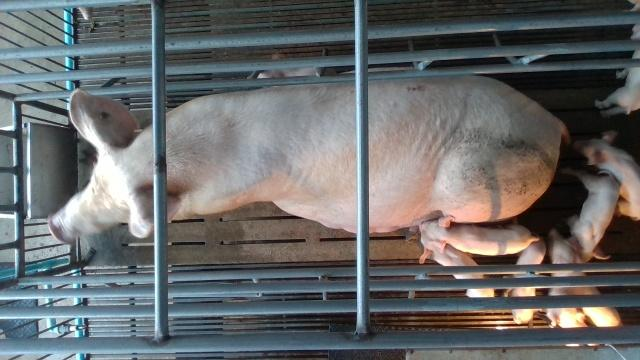piglet: (572, 131, 640, 222), (563, 165, 620, 263), (418, 217, 540, 256), (594, 25, 640, 118), (507, 239, 547, 324), (420, 237, 482, 280)
sow-sit: (48, 75, 572, 237)
